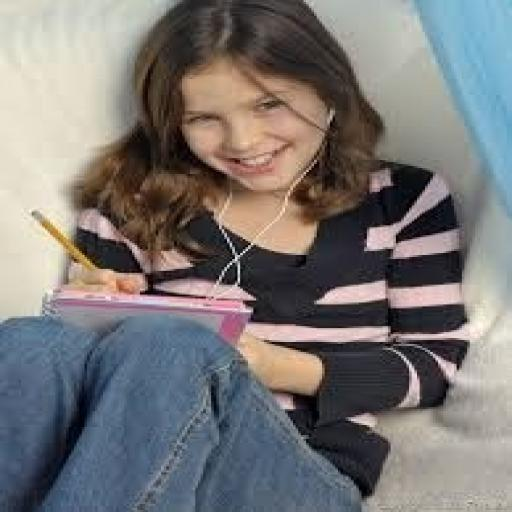listening_to_music: (0, 0, 475, 510)
